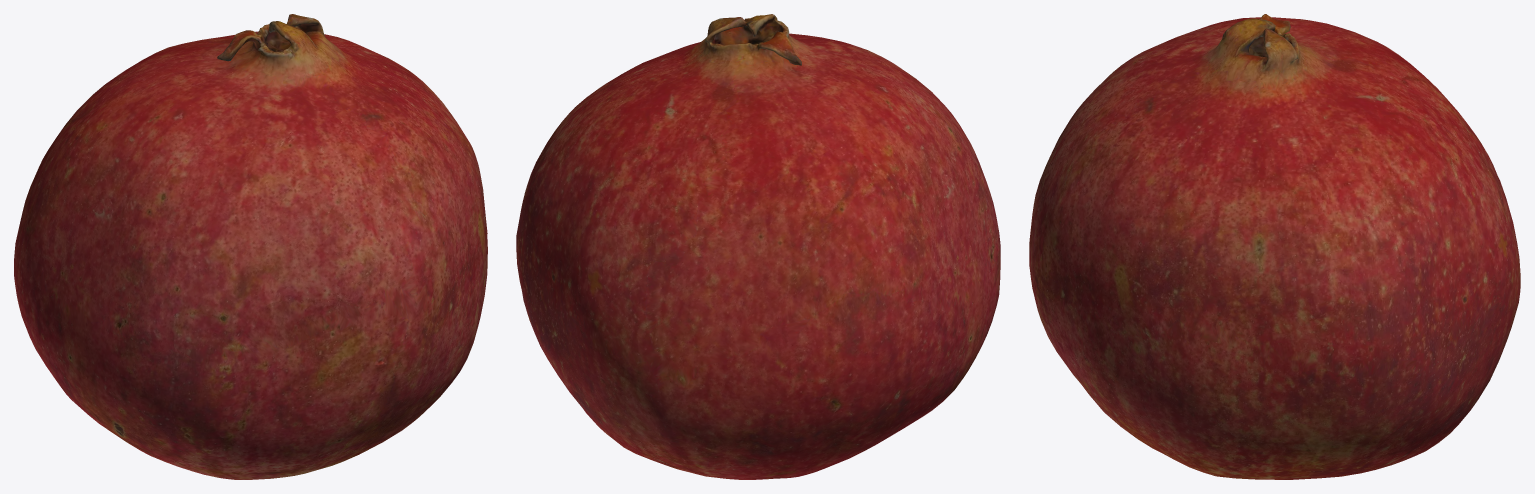
Rendered from food_pomegranate_01.glb.
3 views of the same model, side by side, from view 1: azimuth 30°, elevation 25°; view 2: azimuth 150°, elevation 25°; view 3: azimuth 270°, elevation 25° (orthographic). The views are drawn at different scales.
Parts seen in each view (by area): view 1: food_pomegranate_01; view 2: food_pomegranate_01; view 3: food_pomegranate_01.
Boxes of the visible parts, bbox=[...] form: food_pomegranate_01: bbox=[14, 14, 487, 479]; food_pomegranate_01: bbox=[516, 14, 1000, 479]; food_pomegranate_01: bbox=[1029, 14, 1520, 479].
Size of the model in its own units: 0.1143 by 0.115 by 0.1154.
Materials: 1 (1 with a texture image).
